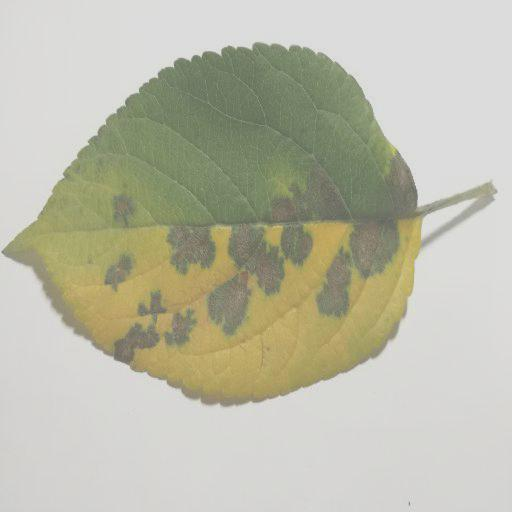Brown_Spot: (83, 185, 409, 366)
